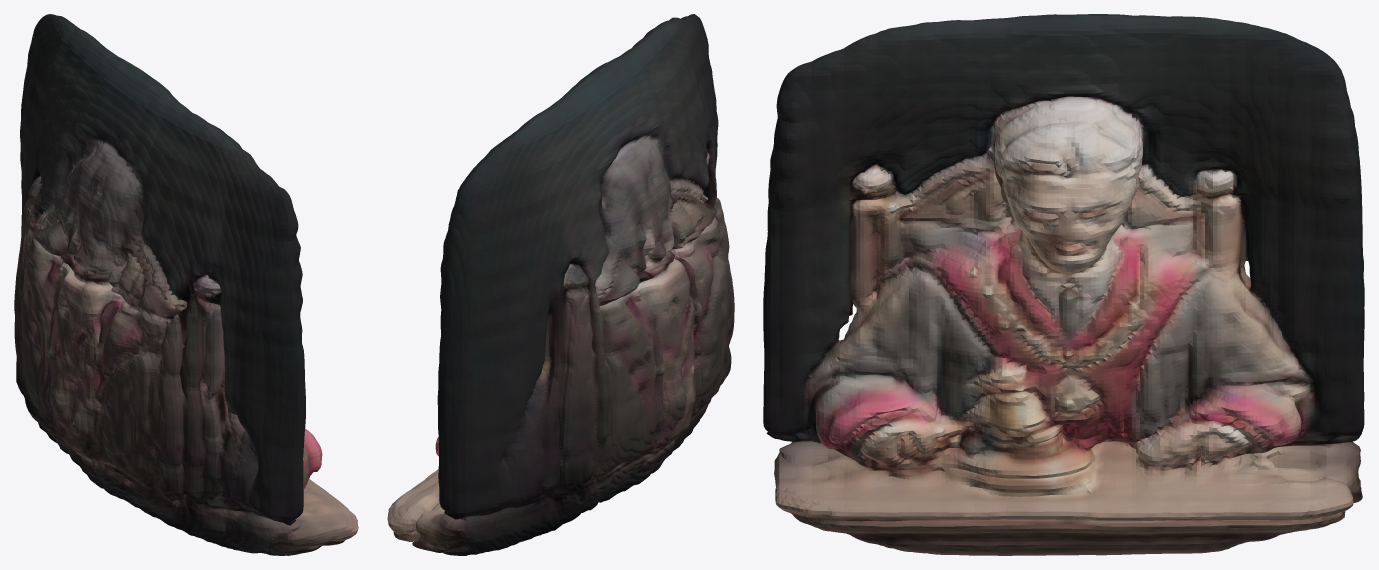
Rendered from juge_3d.glb.
The picture shows the model from 3 angles, left to right: view 1: azimuth 30°, elevation 25°; view 2: azimuth 150°, elevation 25°; view 3: azimuth 270°, elevation 25°; orthographic projection. The views are drawn at different scales.
Parts seen in each view (by area): view 1: geometry_0; view 2: geometry_0; view 3: geometry_0.
Part boxes in pixels (bbox=[...]): geometry_0: bbox=[14, 14, 358, 555]; geometry_0: bbox=[387, 14, 734, 555]; geometry_0: bbox=[763, 14, 1364, 555].
Bounding box in the file's own units: 0.4336 × 0.9284 × 1.01.
